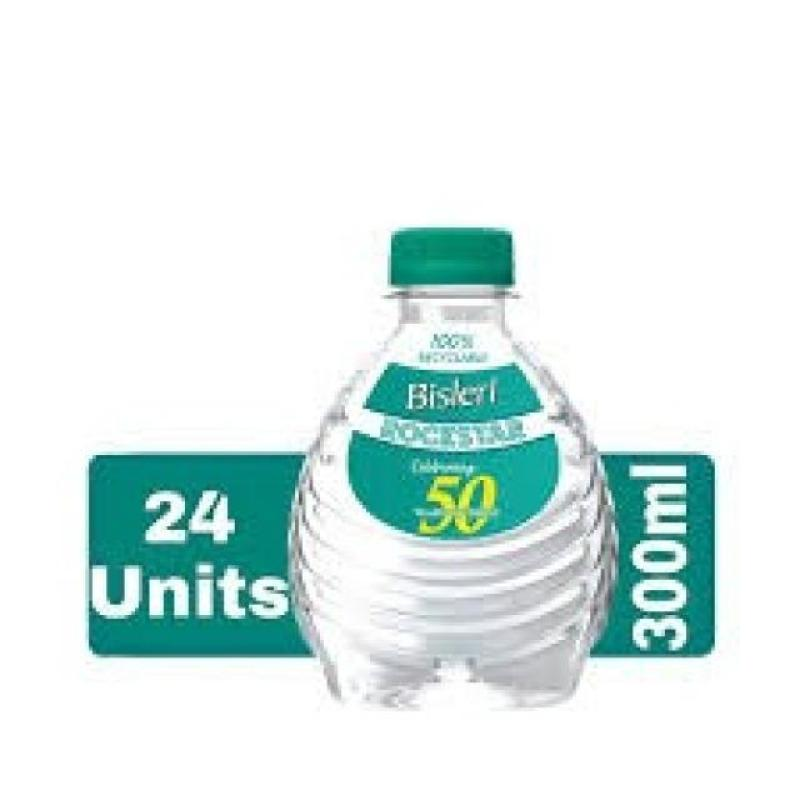botella: (281, 222, 619, 717)
